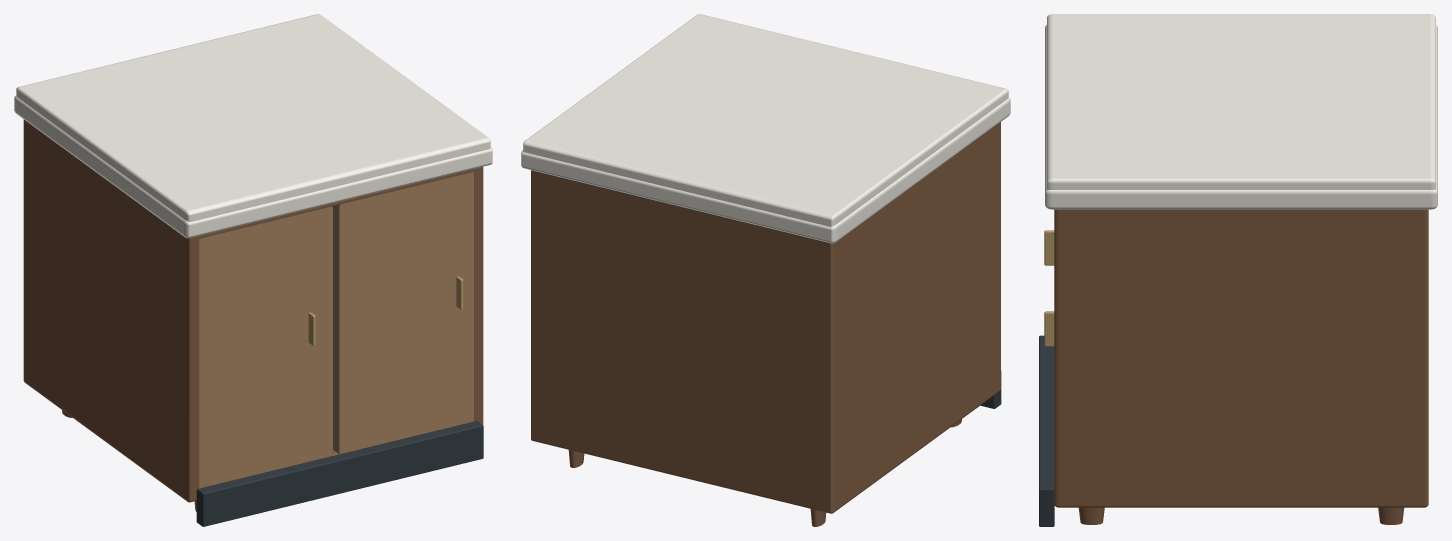
Rendered from cabinet-3-4.glb.
3 renders of one model, left to right at view 1: azimuth 30°, elevation 25°; view 2: azimuth 150°, elevation 25°; view 3: azimuth 270°, elevation 25°, orthographic. The views are drawn at different scales.
Parts seen in each view (by area): view 1: upholstery, worktop, part, kickboard; view 2: part, worktop; view 3: part, worktop, kickboard, upholstery.
Boxes of the visible parts, x1=… form: upholstery: x1=199, y1=172, x2=473, y2=488; worktop: x1=14, y1=14, x2=492, y2=238; part: x1=23, y1=119, x2=483, y2=511; kickboard: x1=196, y1=421, x2=483, y2=526; part: x1=531, y1=122, x2=1000, y2=526; worktop: x1=521, y1=14, x2=1010, y2=243; part: x1=1054, y1=209, x2=1428, y2=524; worktop: x1=1045, y1=14, x2=1437, y2=209; kickboard: x1=1039, y1=335, x2=1054, y2=526; upholstery: x1=1044, y1=230, x2=1054, y2=346.
Bounding box in the file's own units: 1 × 1 × 1.
